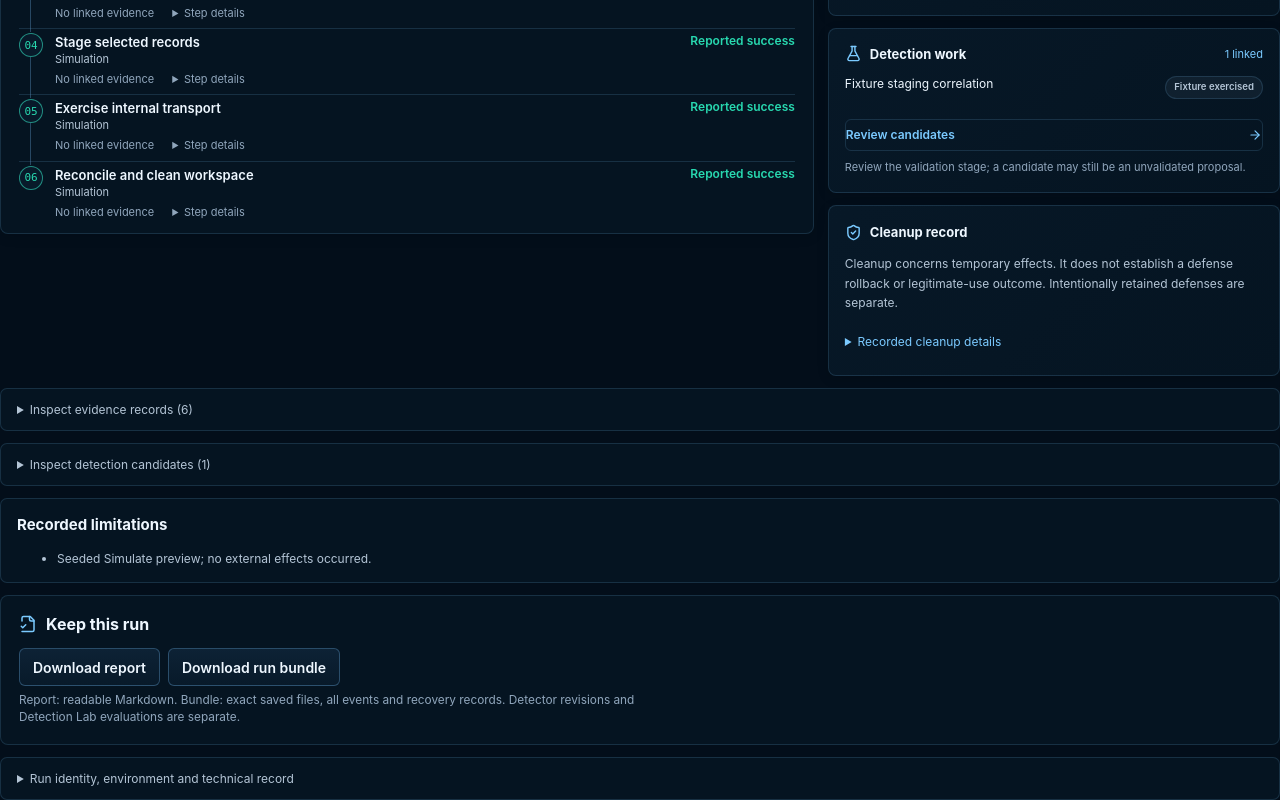
shows the retained authorized scope with legacy fallback: {"authorized_target_scope":{"scope_refs":["canonical.workspace","canonical.loopback"]},"policy":{"auth
(page scrolled)
Click the heading "Run identity, environment and technical record": (162, 778) [30,771,294,786]
(page scrolled)
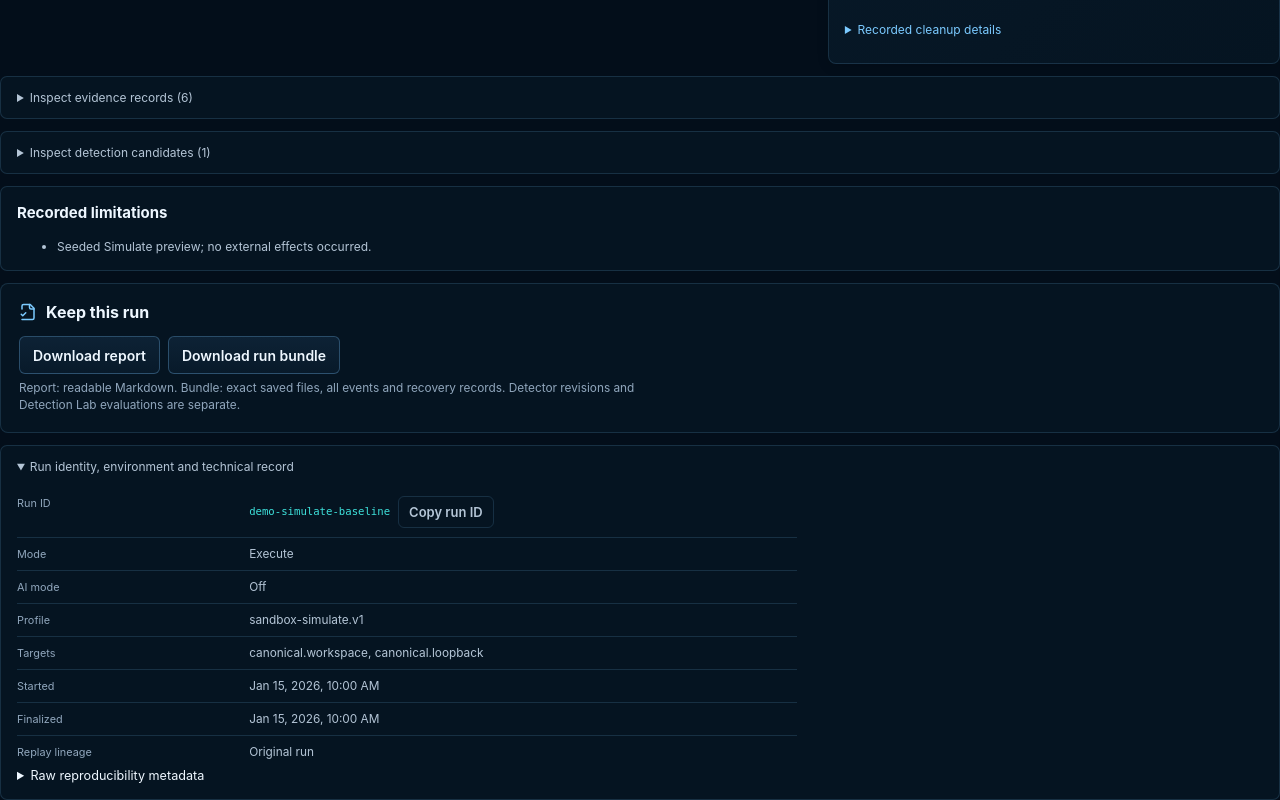
Expected: the text "canonical.workspace, canonical.loopback" is shown, [249,646,483,660]
